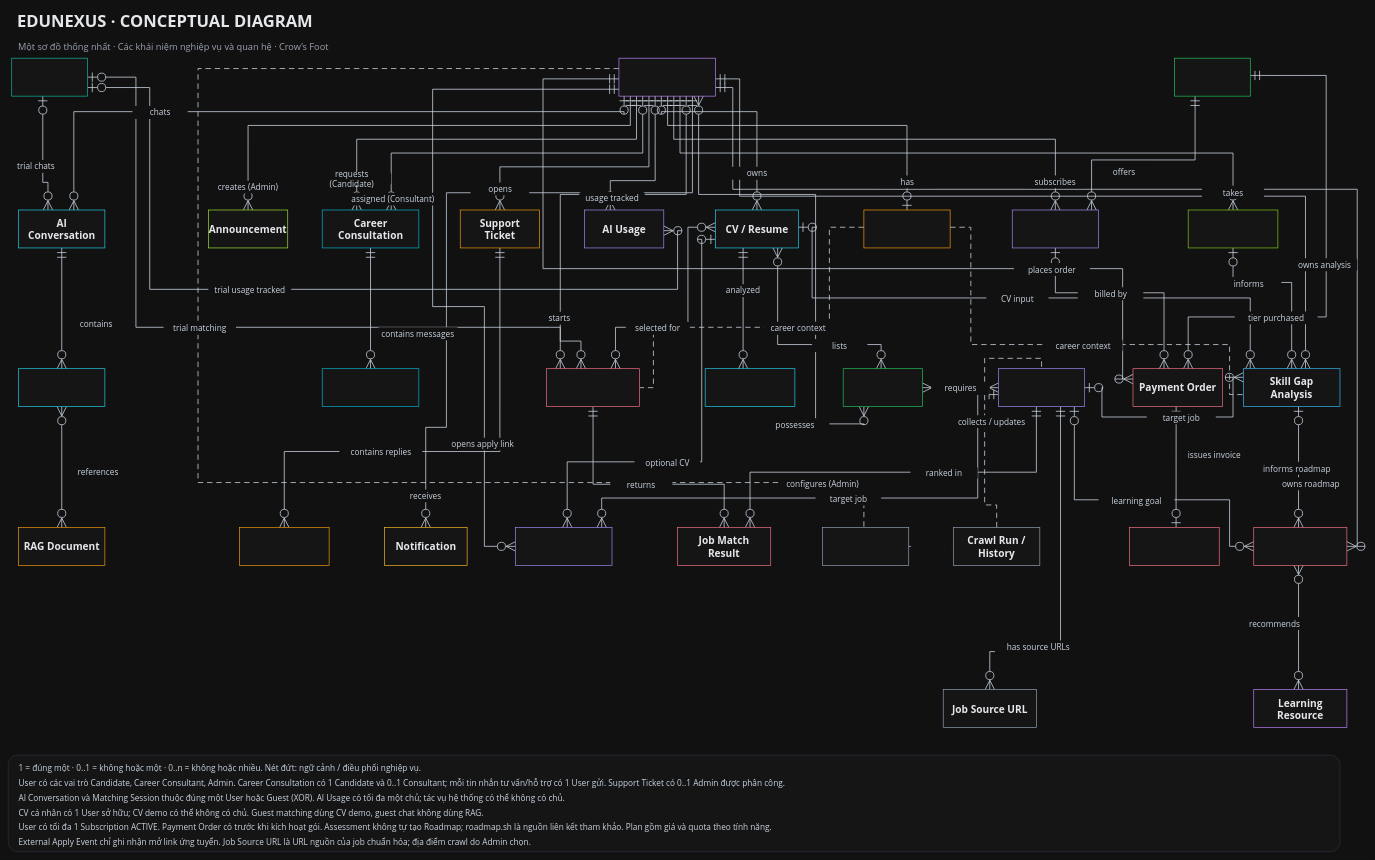
This 1375x860 diagram has some shape labels left out. The box of each missing label's shape, as (x1, y1, x2, y2) in pixels:
AI Message: (18, 368, 105, 407)
Assessment: (1188, 209, 1278, 248)
Career Profile: (863, 209, 950, 248)
Consultation Message: (322, 368, 419, 407)
Crawl Settings: (822, 527, 909, 565)
External Apply Event: (515, 527, 612, 565)
Guest Session: (11, 58, 88, 96)
Invoice: (1129, 527, 1219, 565)
Job Post: (998, 368, 1085, 407)
Learning Roadmap: (1253, 527, 1347, 565)
Matching Session: (546, 368, 640, 407)
Plan: (1174, 58, 1250, 96)
Resume Analysis: (705, 368, 795, 407)
schedules: (910, 534, 952, 547)
Skill: (843, 368, 923, 407)
Support Message: (239, 527, 329, 565)
User: (618, 58, 716, 96)
User Subscription: (1012, 209, 1099, 248)
